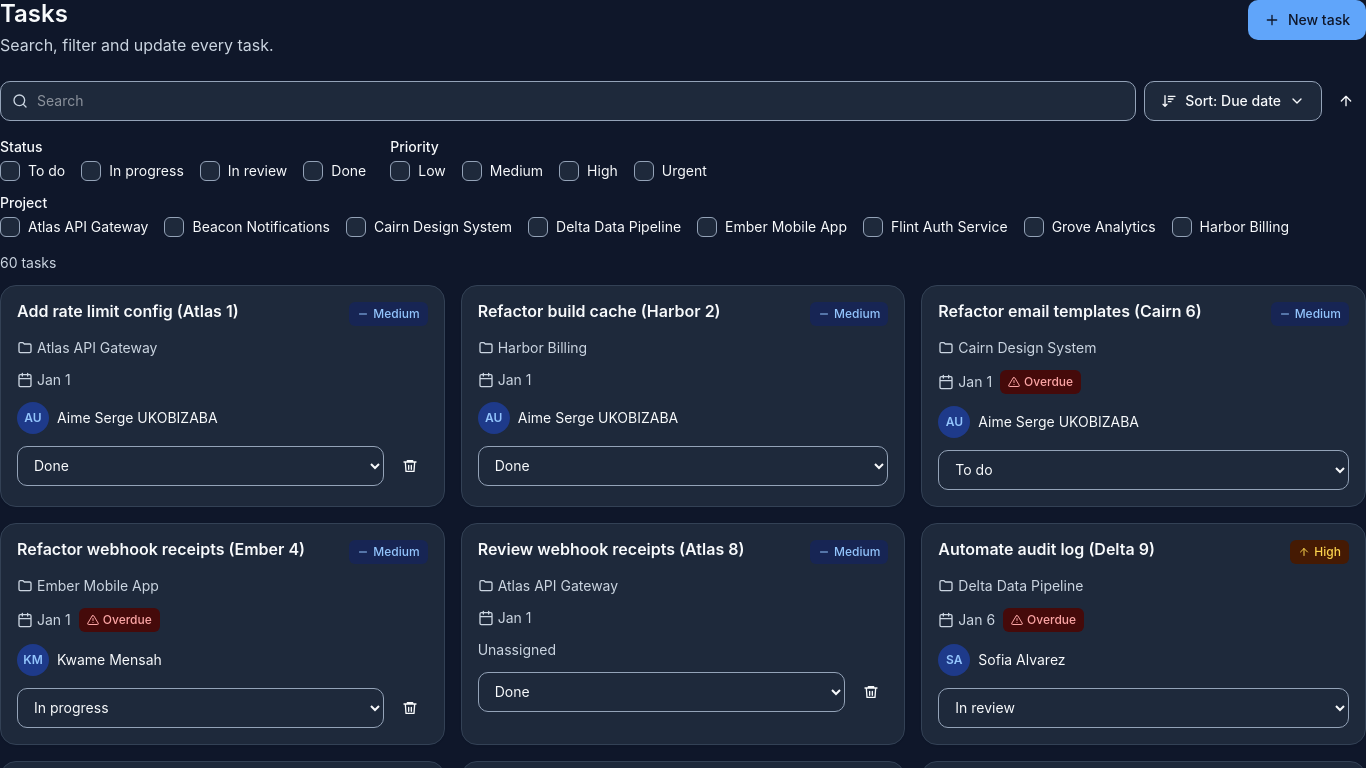
Scenario: TC-054 tasks page (FR-15..19, FR-21) › TC-030 creating a task validates required fields, then saves with a toast
Expected: the text "60 tasks" is shown, [0,254,56,271]
Click the button "New task".
click(1307, 20)  # box [1248,0,1365,40]
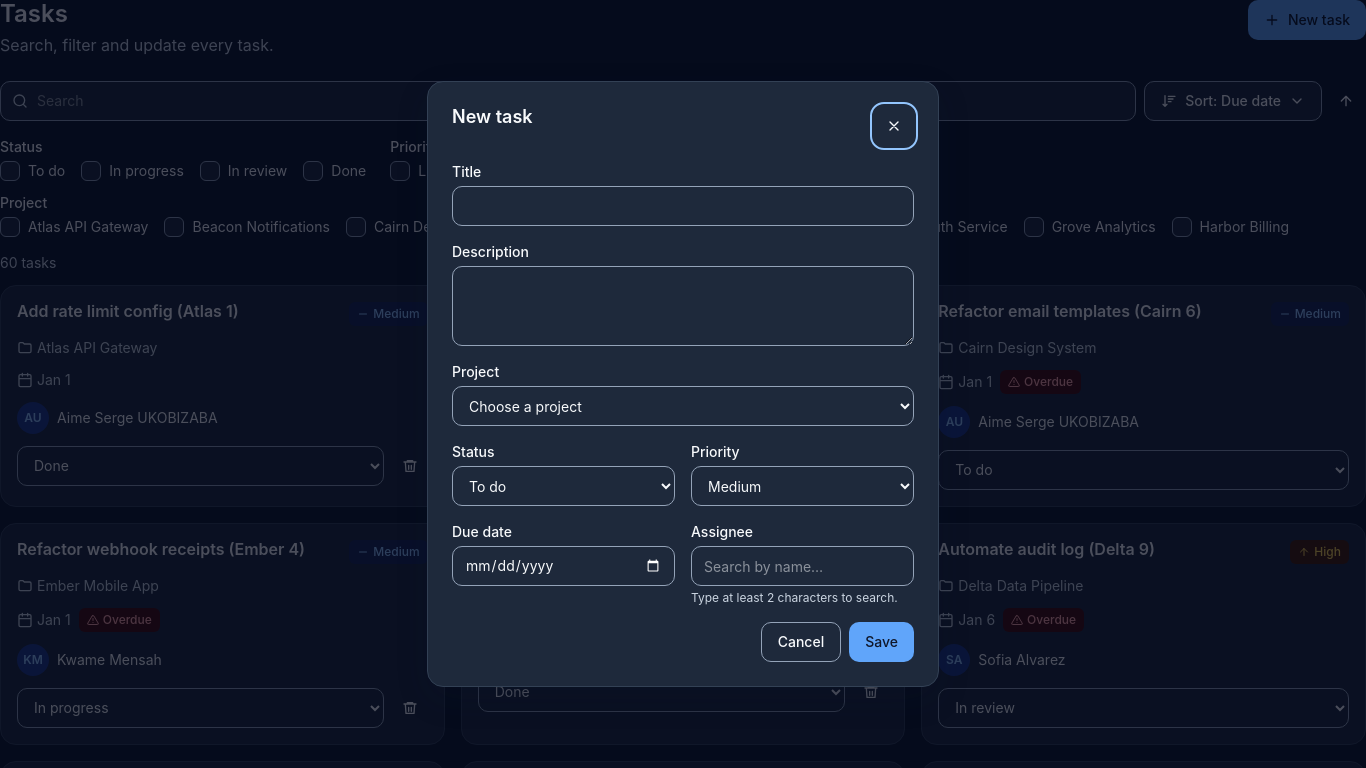
Click the button "Save".
click(882, 642)  # box [849,622,914,662]
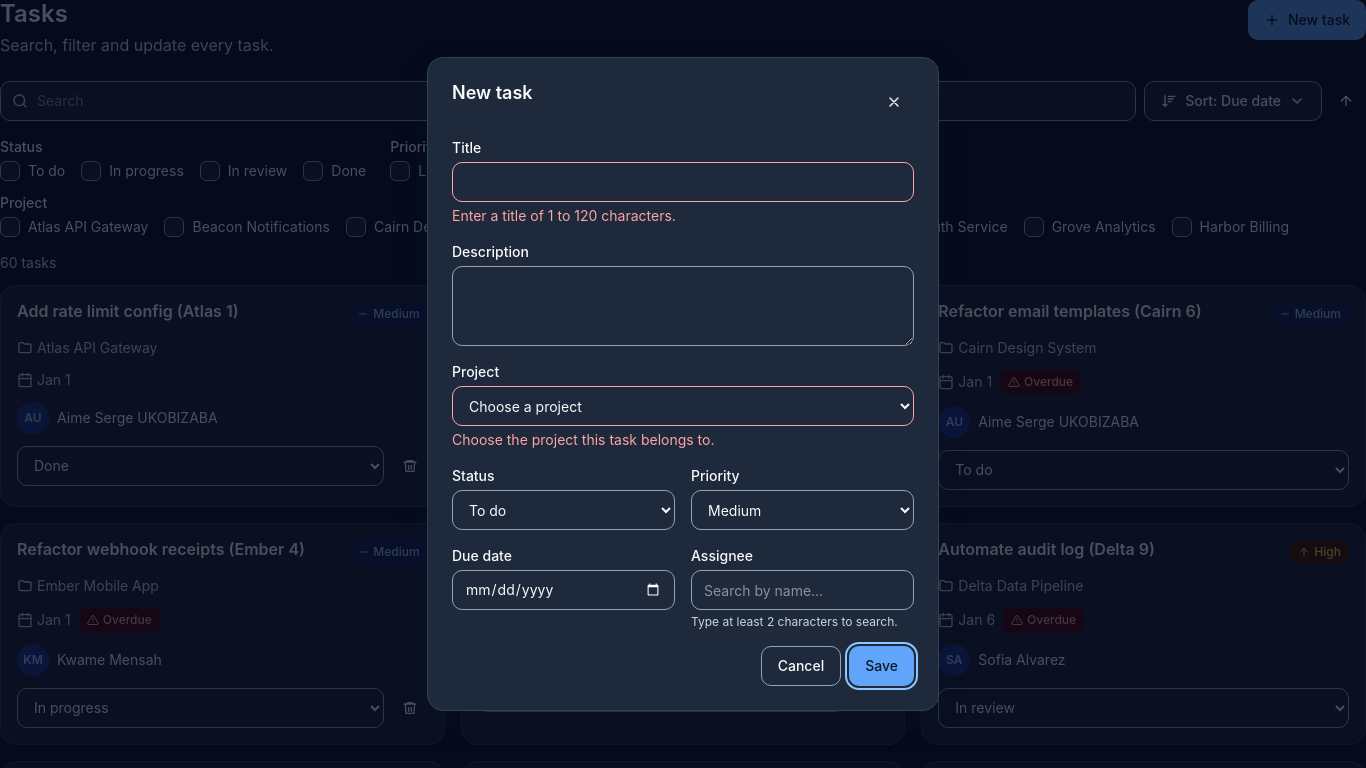
Expected: the text "Enter a title of 1 to 120 characters." is shown, [452,207,676,224]
Expected: the text "Choose the project this task belongs to." is shown, [452,431,714,448]
Type "Brand new task" into the field labelled "Title".
click(683, 182); type("Brand new task")  # box [452,162,914,202]
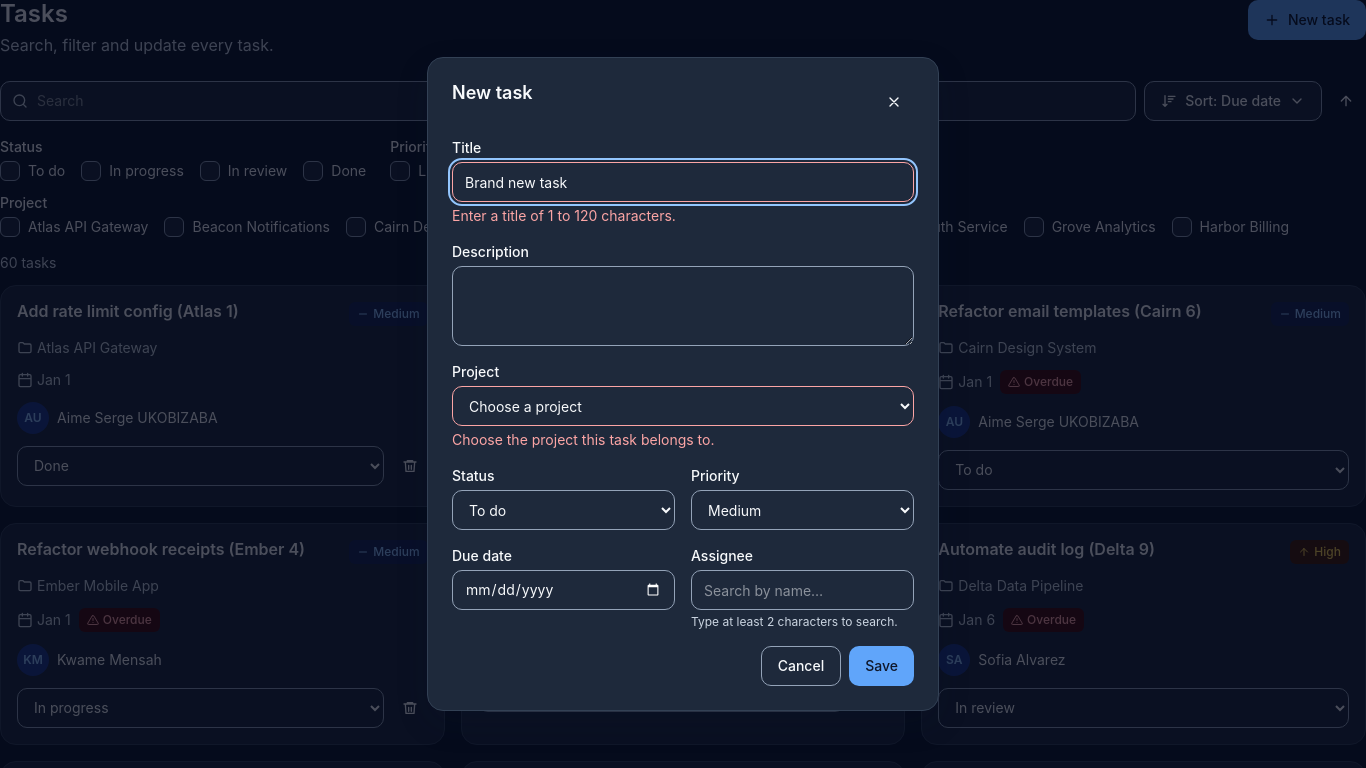
Select "Atlas API Gateway" in the dropdown labelled "Project" at (683, 406), box [452,386,914,426]
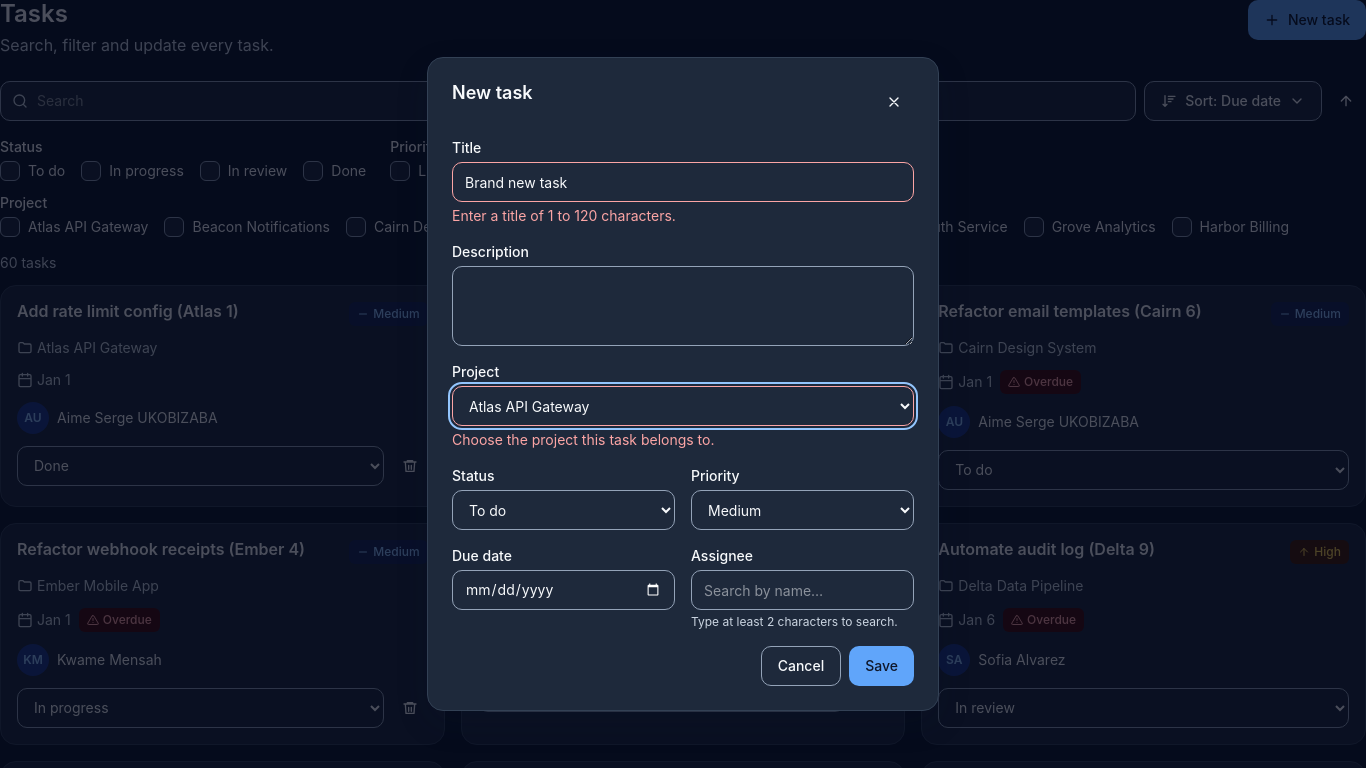
Click the button "Save".
click(882, 666)  # box [849,646,914,686]
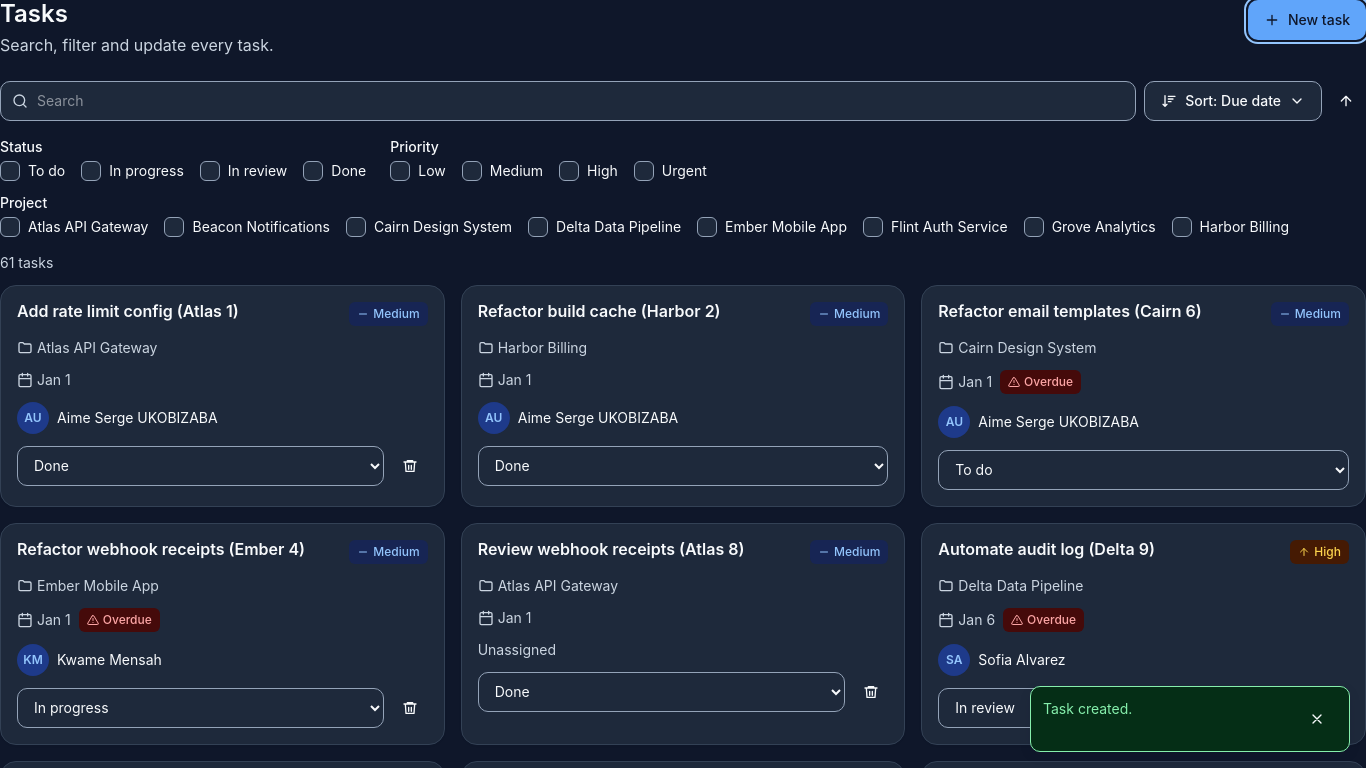
Expected: the text "Task created." is shown, [1043,700,1132,717]
